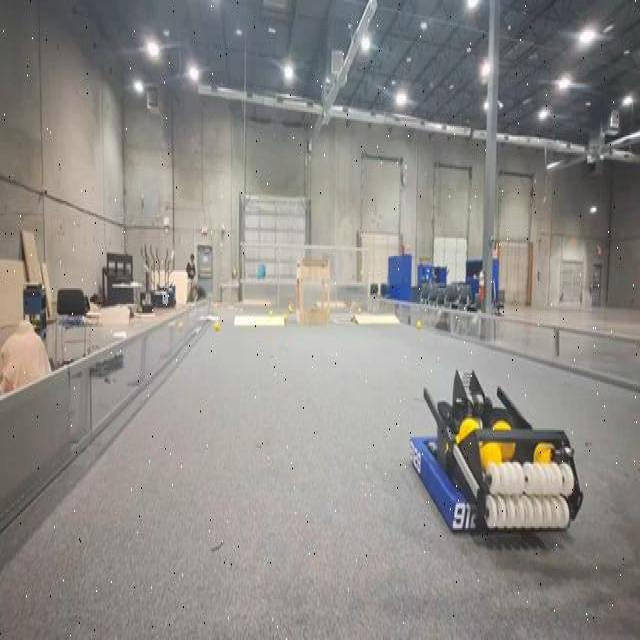Fuel: (456, 417, 481, 446), (480, 443, 502, 471), (456, 418, 478, 442), (533, 443, 553, 462), (499, 442, 514, 458), (214, 322, 220, 332), (214, 322, 219, 331), (416, 320, 421, 329)
